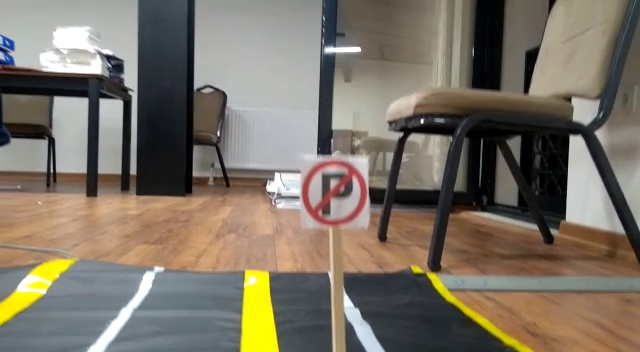park_yapilmaz: (300, 155, 367, 228)
